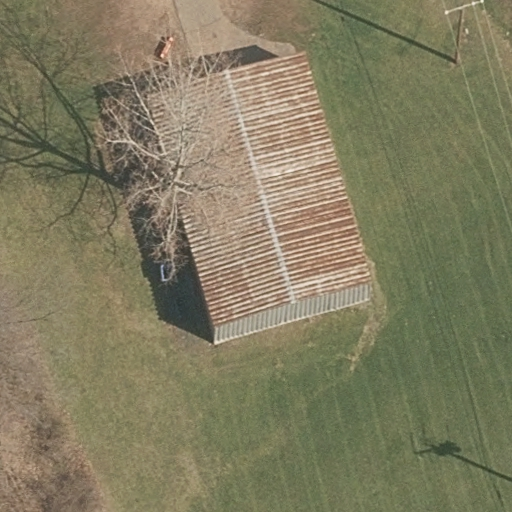DT: (436, 1, 490, 72)
